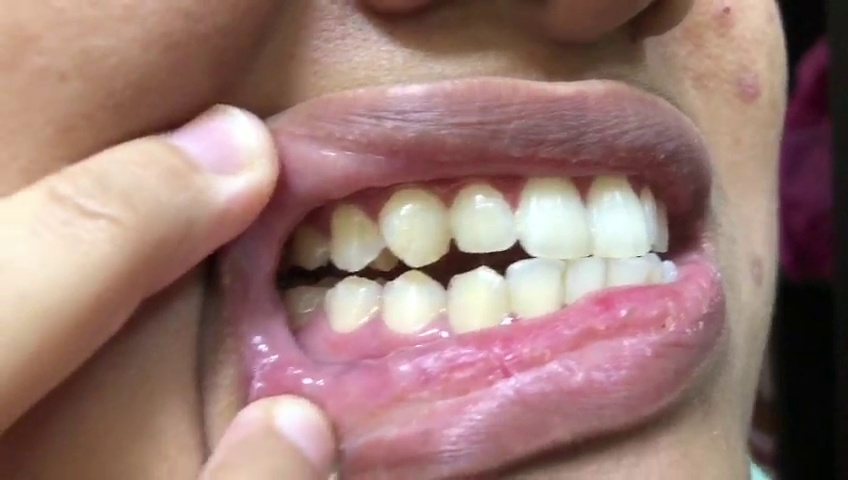1st Molar: (281, 282, 322, 334)
1st Premolar: (381, 266, 447, 335), (330, 202, 384, 272)
2nd Premolar: (323, 275, 379, 333), (292, 217, 329, 274)
Canine: (378, 188, 449, 268), (447, 267, 507, 331)
Central Incisor: (516, 174, 592, 257), (587, 171, 651, 258)
Lateral Incisor: (450, 178, 518, 251), (507, 257, 566, 319)
